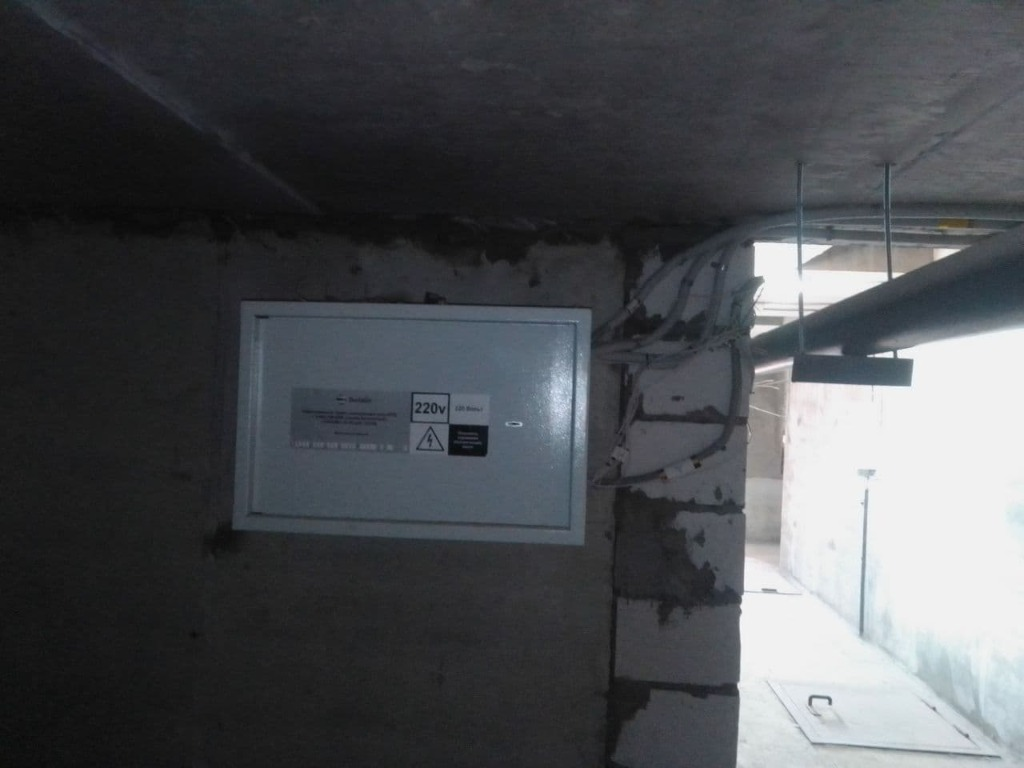shta-7m: (217, 287, 604, 555)
